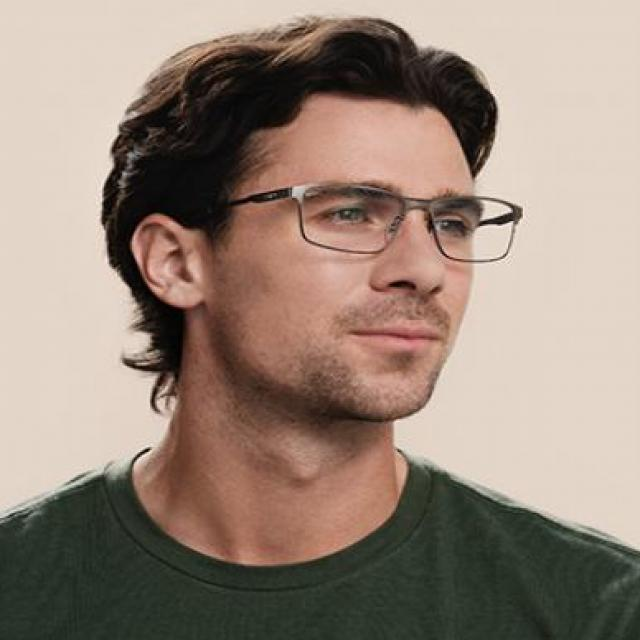Glasses: (230, 177, 522, 267)
